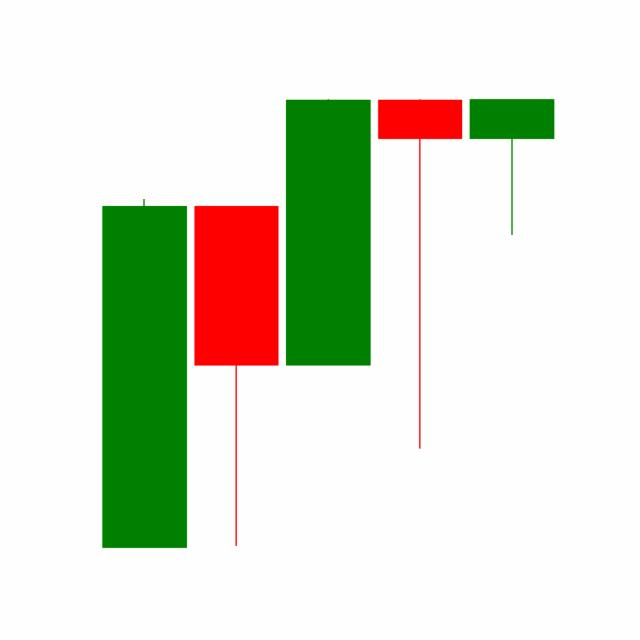Hanging Man: (464, 96, 558, 236)
